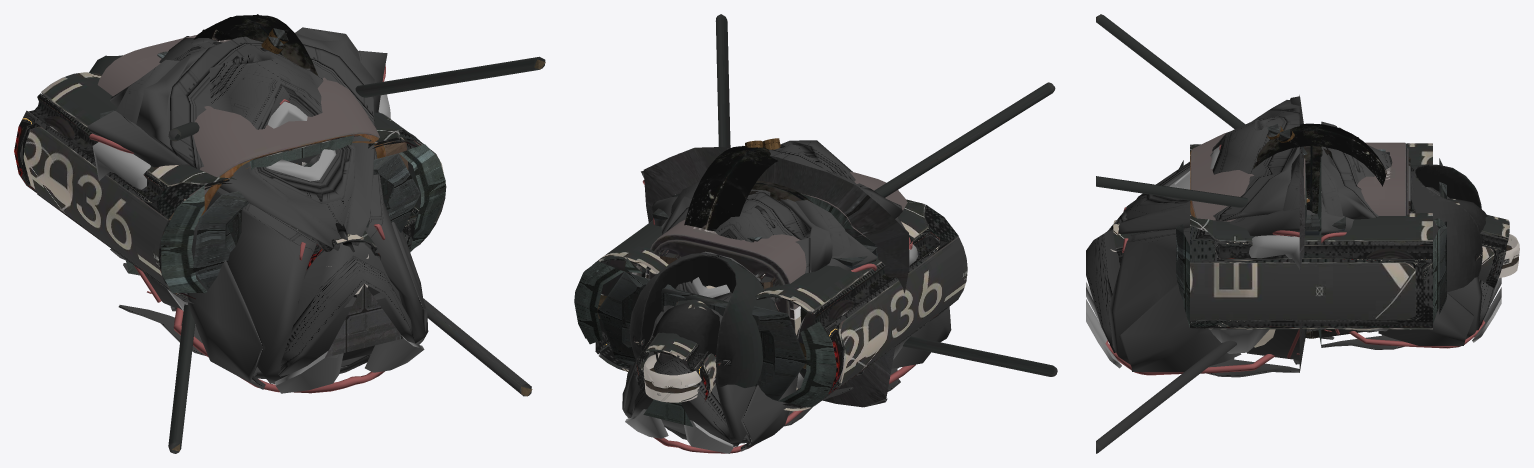
Rendered from machines.glb.
The picture shows the model from 3 angles, left to right: view 1: azimuth 30°, elevation 25°; view 2: azimuth 150°, elevation 25°; view 3: azimuth 270°, elevation 25°; orthographic projection. The views are drawn at different scales.
Parts seen in each view (by area): view 1: capital-bow-recessed-prow-lod0, freighter-mid-duplex-tanks-lod0, freighter-bow-slant-hood-lod0, builder-bow-capture-tines-lod0, base-parallax-lod0, cargo-stern-pump-cowl-lod0, freighter-stern-recessed-tail-lod0; view 2: freighter-mid-duplex-tanks-lod0, freighter-stern-recessed-tail-lod0, capital-bow-recessed-prow-lod0, capital-stern-stator-lod0, base-parallax-lod0, builder-bow-capture-tines-lod0, cargo-stern-pump-cowl-lod0, builder-stern-recovery-deck-lod0, freighter-bow-slant-hood-lod0, capital-mid-gimbal-lod0; view 3: capital-bow-recessed-prow-lod0, freighter-mid-duplex-tanks-lod0, freighter-stern-recessed-tail-lod0, capital-stern-stator-lod0, builder-bow-capture-tines-lod0, base-parallax-lod0, freighter-bow-slant-hood-lod0, cargo-stern-pump-cowl-lod0, capital-mid-gimbal-lod0, builder-stern-recovery-deck-lod0.
Boxes of the visible parts, x1=… form: capital-bow-recessed-prow-lod0: x1=87, y1=27, x2=428, y2=393; freighter-mid-duplex-tanks-lod0: x1=14, y1=72, x2=446, y2=303; freighter-bow-slant-hood-lod0: x1=184, y1=77, x2=385, y2=221; builder-bow-capture-tines-lod0: x1=168, y1=56, x2=545, y2=453; base-parallax-lod0: x1=193, y1=14, x2=380, y2=303; cargo-stern-pump-cowl-lod0: x1=97, y1=34, x2=230, y2=95; freighter-stern-recessed-tail-lod0: x1=110, y1=38, x2=223, y2=275; freighter-mid-duplex-tanks-lod0: x1=574, y1=193, x2=967, y2=411; freighter-stern-recessed-tail-lod0: x1=622, y1=182, x2=877, y2=453; capital-bow-recessed-prow-lod0: x1=641, y1=140, x2=951, y2=407; capital-stern-stator-lod0: x1=629, y1=251, x2=778, y2=387; base-parallax-lod0: x1=634, y1=146, x2=777, y2=402; builder-bow-capture-tines-lod0: x1=715, y1=14, x2=1057, y2=376; cargo-stern-pump-cowl-lod0: x1=645, y1=219, x2=806, y2=390; builder-stern-recovery-deck-lod0: x1=597, y1=260, x2=854, y2=385; freighter-bow-slant-hood-lod0: x1=799, y1=171, x2=907, y2=236; capital-mid-gimbal-lod0: x1=749, y1=181, x2=813, y2=203; capital-bow-recessed-prow-lod0: x1=1086, y1=95, x2=1306, y2=377; freighter-mid-duplex-tanks-lod0: x1=1176, y1=143, x2=1446, y2=329; freighter-stern-recessed-tail-lod0: x1=1317, y1=121, x2=1501, y2=349; capital-stern-stator-lod0: x1=1408, y1=164, x2=1487, y2=292; builder-bow-capture-tines-lod0: x1=1096, y1=14, x2=1248, y2=453; base-parallax-lod0: x1=1110, y1=123, x2=1519, y2=288; freighter-bow-slant-hood-lod0: x1=1190, y1=132, x2=1306, y2=347; cargo-stern-pump-cowl-lod0: x1=1345, y1=142, x2=1410, y2=330; capital-mid-gimbal-lod0: x1=1303, y1=146, x2=1335, y2=338; builder-stern-recovery-deck-lod0: x1=1366, y1=248, x2=1413, y2=324.
Size of what is drawn, in the model's own units: 2.17 by 1.94 by 2.58.
22 materials, 17 textured.
